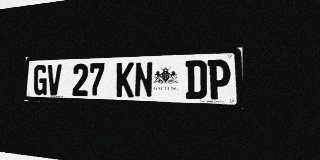2: (72, 63, 88, 96)
7: (88, 63, 105, 97)
D: (185, 60, 207, 99)
G: (33, 65, 47, 95)
K: (116, 62, 134, 97)
N: (134, 62, 153, 98)
P: (208, 59, 231, 100)
V: (47, 64, 62, 96)
